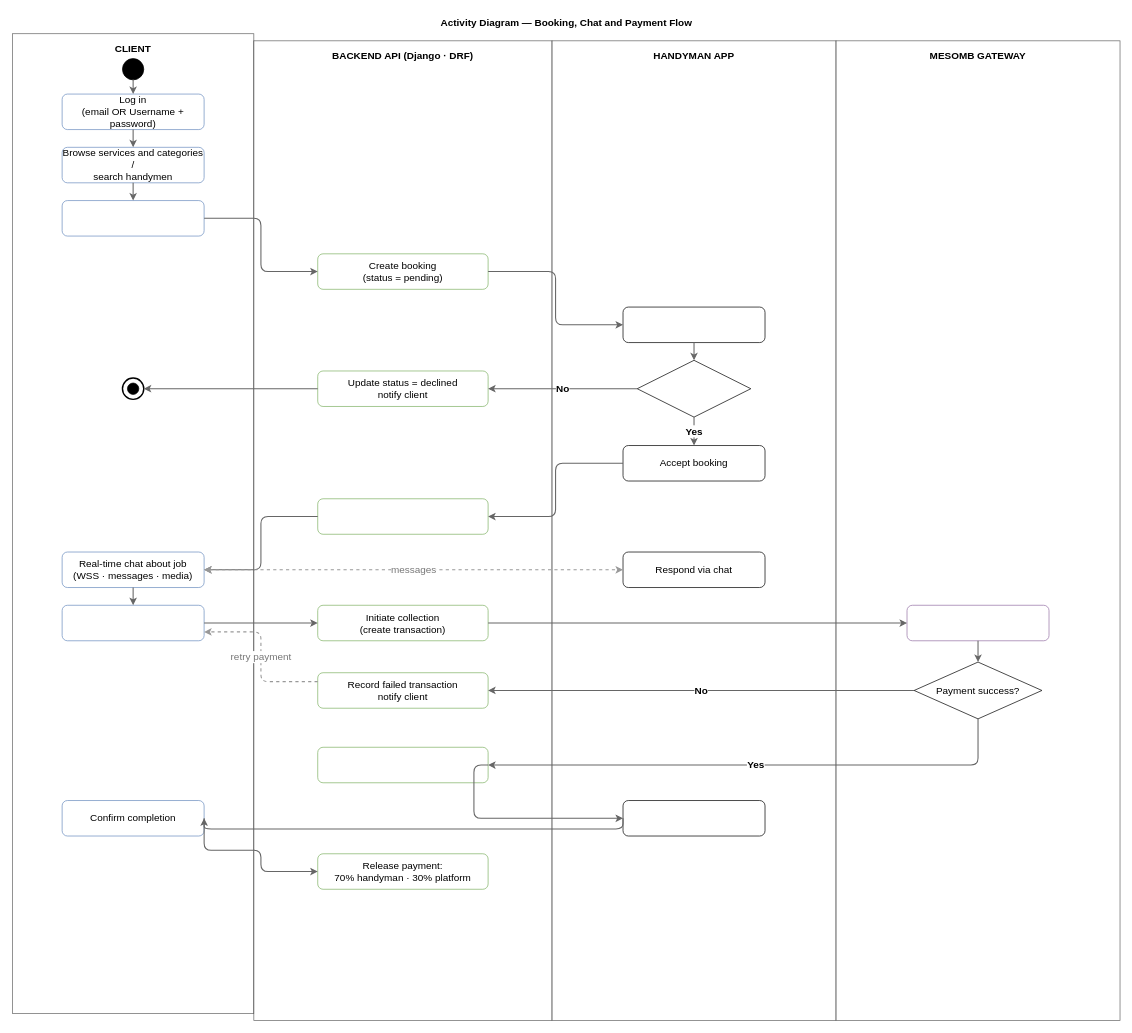
Some shapes in this 1132 by 1033 pixel diagram are drawn without their labels. Here are the shapes that lost their labels. From the top down, the centre of each, then its label:
point 132,218: Select handyman & create booking request
point 693,324: New booking notification (in-app)
point 694,388: Accept?
point 402,516: Status = accepted notify client
point 132,623: Pay from wallet (MeSomb mobile money)
point 977,623: Charge MTN / Orange mobile money
point 402,765: Hold funds in escrow status = in progress
point 693,818: Mark job as complete
